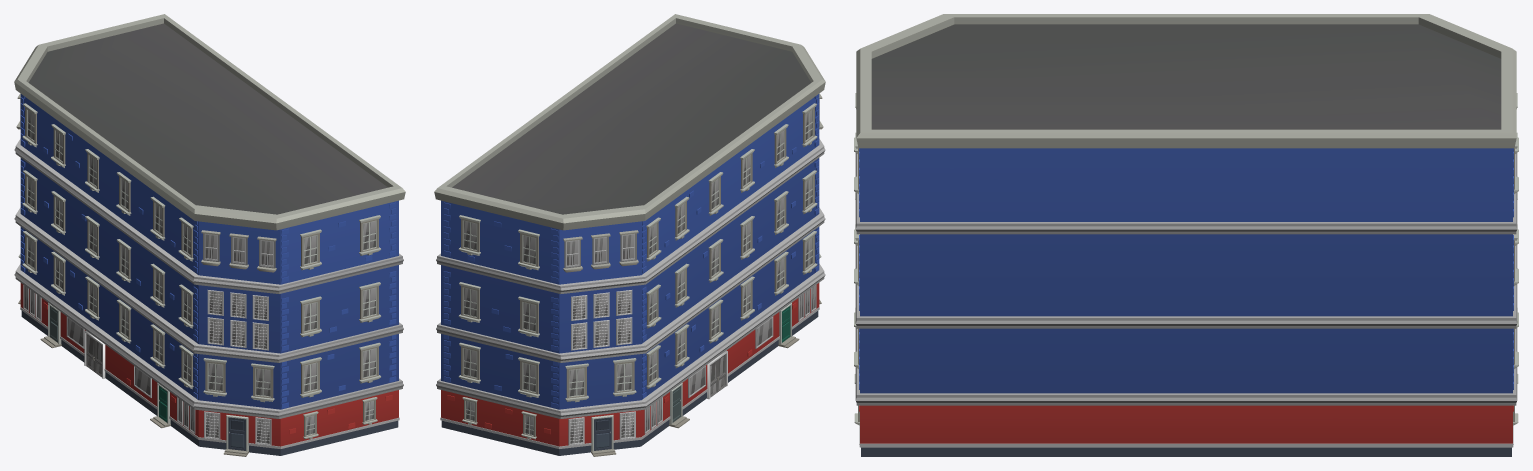
File: Building_25_6_B.glb
The picture shows the model from 3 angles, left to right: view 1: azimuth 30°, elevation 25°; view 2: azimuth 150°, elevation 25°; view 3: azimuth 270°, elevation 25°; orthographic projection. The views are drawn at different scales.
Visible parts, largest first — view 1: Building_25_6_B; view 2: Building_25_6_B; view 3: Building_25_6_B.
Part boxes in pixels (<box>): Building_25_6_B: <box>14,14,405,456</box>; Building_25_6_B: <box>434,14,825,456</box>; Building_25_6_B: <box>854,14,1518,456</box>.
Size of the model in its own units: 12.91 by 15.96 by 29.41.
Materials: 3 (3 with a texture image).
